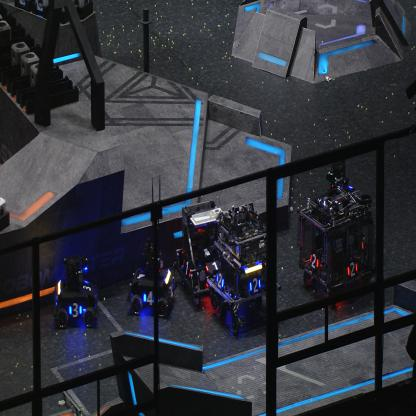car: (206, 204, 280, 334), (297, 185, 375, 298), (173, 199, 230, 308), (129, 237, 178, 319), (54, 253, 98, 329), (314, 149, 358, 222)
